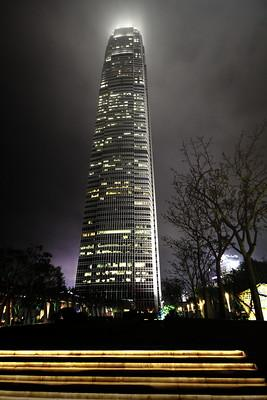building: (70, 21, 165, 319)
